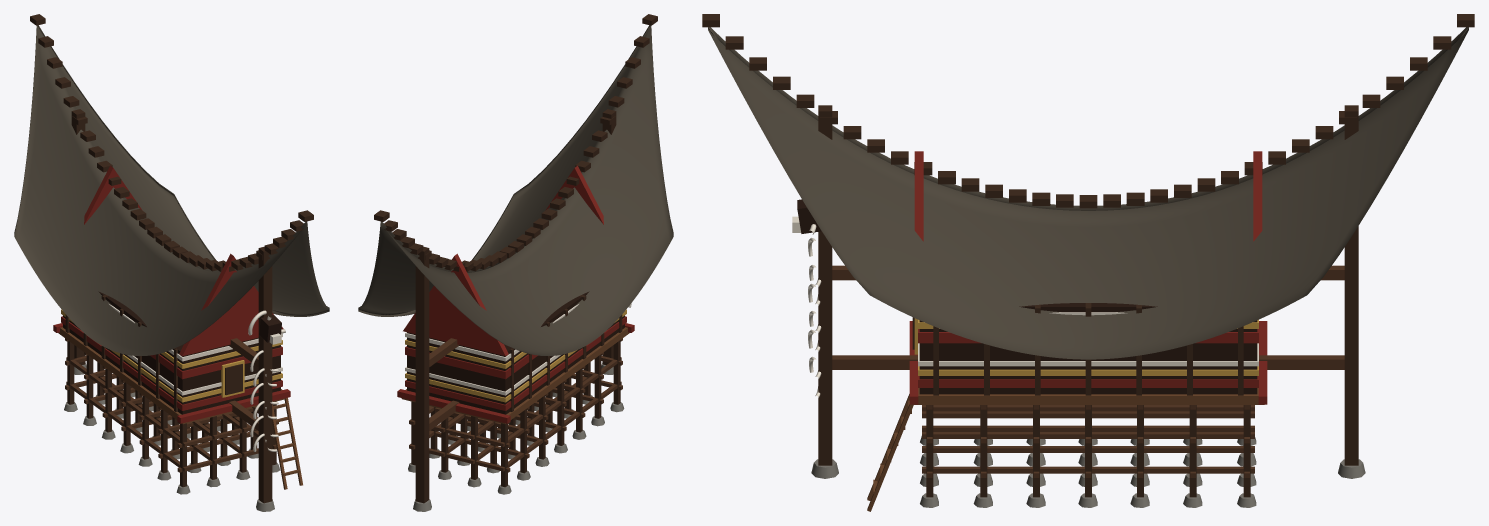
File: tongkonan-toraja.glb
3 views of the same model, side by side, from view 1: azimuth 30°, elevation 25°; view 2: azimuth 150°, elevation 25°; view 3: azimuth 270°, elevation 25° (orthographic). The views are drawn at different scales.
Visible parts, largest first — view 1: atap_perahu, dinding_passura, tiang_lentong, tiang_tulak_sombong, lantai_kale_banua, batu_umpak, tanduk_kabongo; view 2: atap_perahu, dinding_passura, tiang_lentong, tiang_tulak_sombong, lantai_kale_banua, batu_umpak; view 3: atap_perahu, dinding_passura, tiang_lentong, tiang_tulak_sombong, lantai_kale_banua, batu_umpak, tanduk_kabongo.
Boxes of the visible parts, x1,y1,x2,y2 form: atap_perahu: (14, 14, 329, 356); dinding_passura: (61, 165, 302, 489); tiang_lentong: (65, 338, 278, 487); tiang_tulak_sombong: (71, 109, 274, 511); lantai_kale_banua: (53, 323, 290, 424); batu_umpak: (64, 392, 279, 494); tanduk_kabongo: (248, 310, 285, 451); atap_perahu: (358, 14, 673, 356); dinding_passura: (403, 165, 626, 414); tiang_lentong: (409, 338, 622, 487); tiang_tulak_sombong: (413, 109, 616, 511); lantai_kale_banua: (397, 323, 634, 424); batu_umpak: (408, 392, 624, 494); atap_perahu: (702, 14, 1474, 359); dinding_passura: (867, 151, 1262, 511); tiang_lentong: (922, 405, 1254, 497); tiang_tulak_sombong: (811, 105, 1365, 478); lantai_kale_banua: (909, 321, 1267, 404); batu_umpak: (920, 436, 1256, 507); tanduk_kabongo: (792, 199, 821, 397).
Size of the model in its own units: 4.1 by 7.98 by 12.18.
